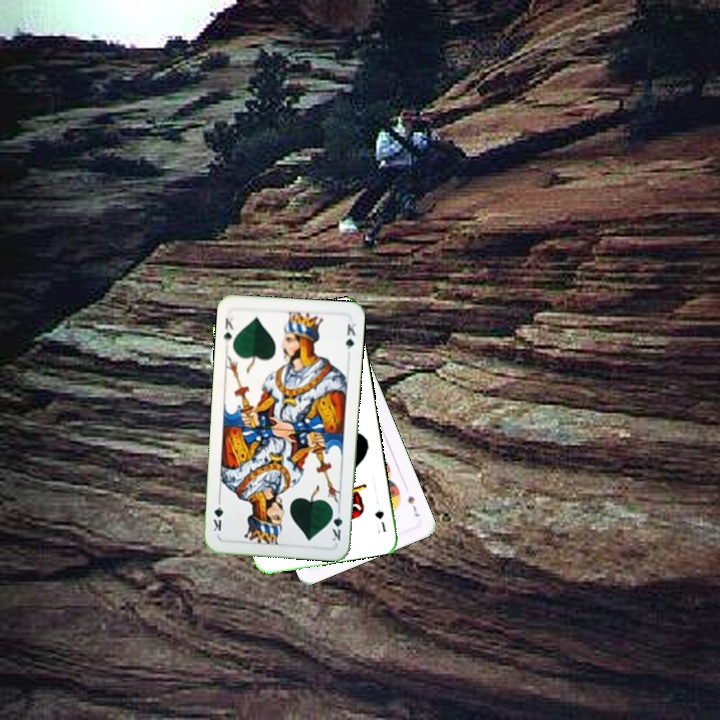GK: (328, 504, 345, 544), (220, 313, 236, 349)
GU: (371, 505, 389, 535)
S7: (404, 492, 422, 519)
